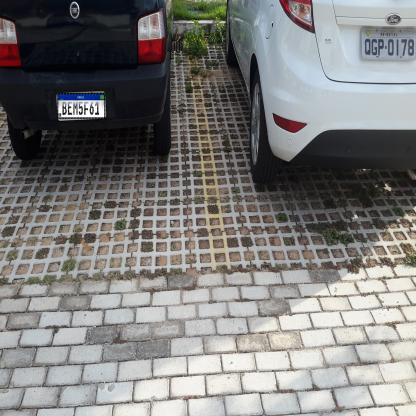PlacaM: (57, 93, 105, 119)
